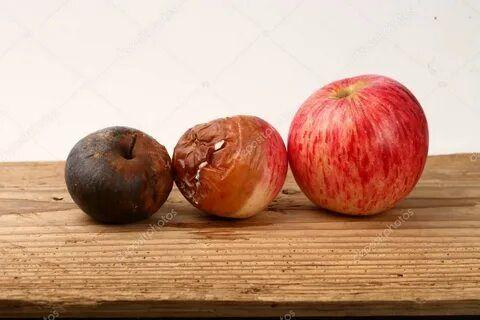Apple: (286, 74, 428, 215), (175, 116, 287, 218), (66, 127, 172, 225)
